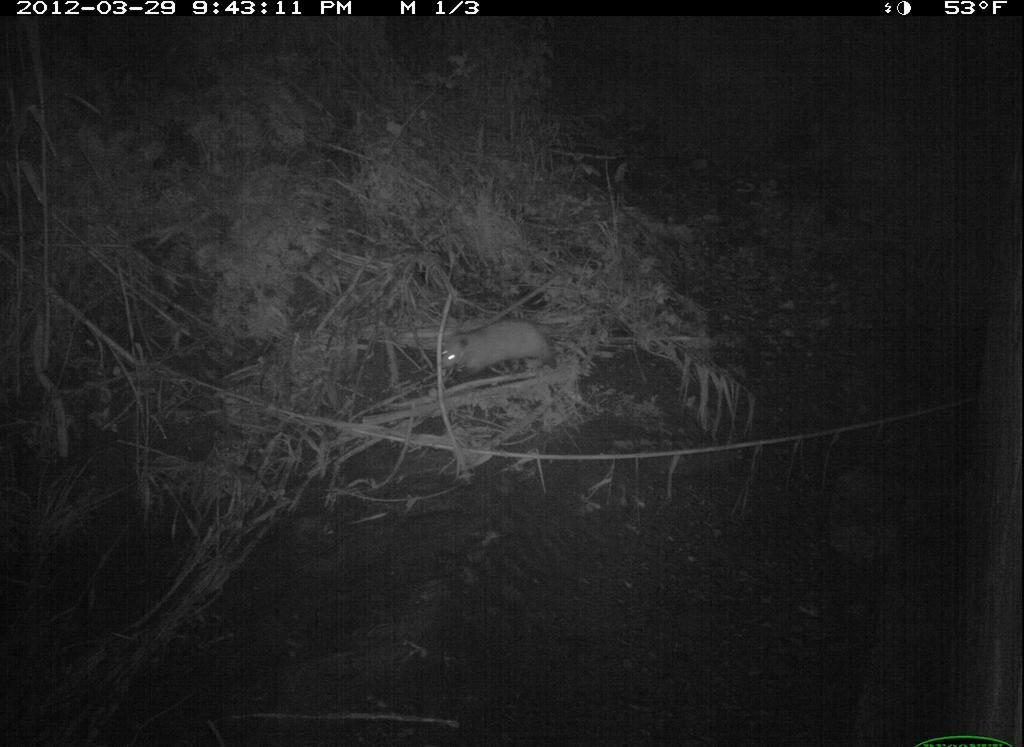opossum: (433, 317, 561, 387)
